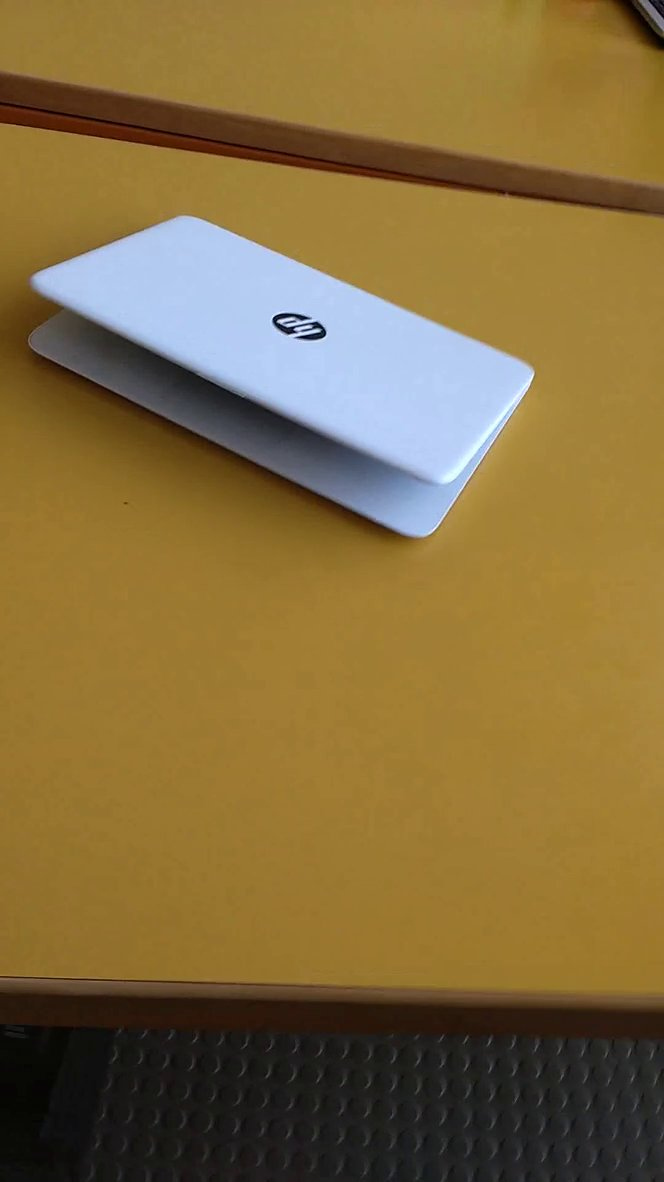laptop: (13, 195, 557, 570)
